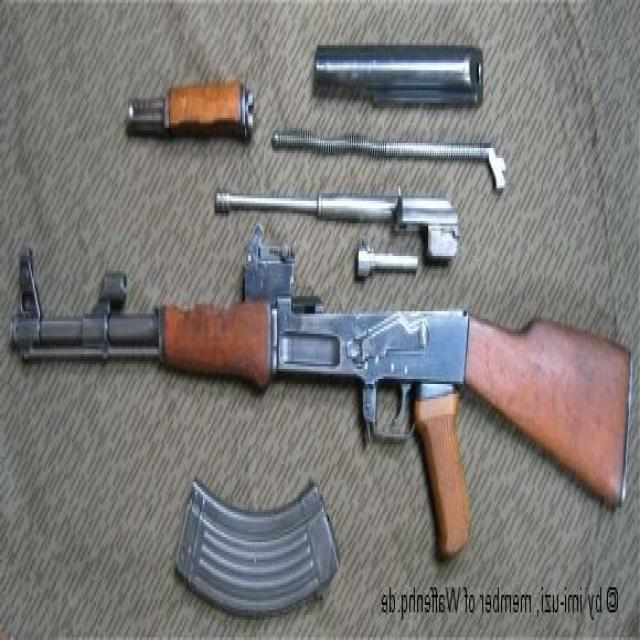Gun: (8, 213, 632, 612)
